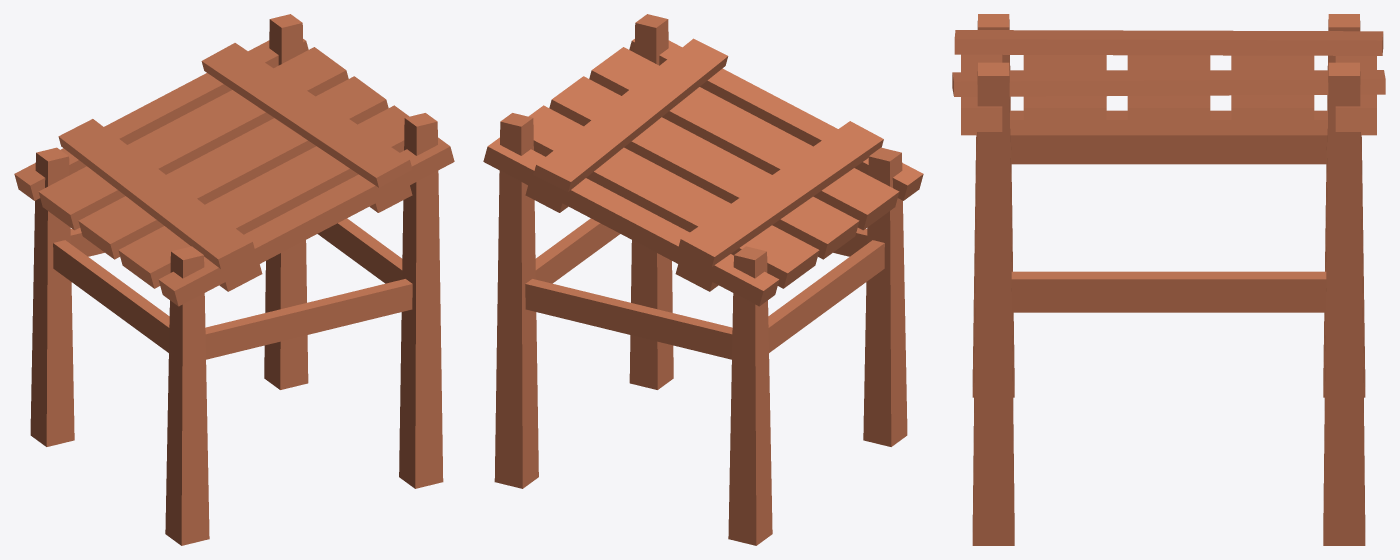
Rendered from structure-roof.obj.
3 renders of one model, left to right at view 1: azimuth 30°, elevation 25°; view 2: azimuth 150°, elevation 25°; view 3: azimuth 270°, elevation 25°, orthographic. The views are drawn at different scales.
Bounding box in the file's own units: 0.5355 × 0.6572 × 0.5519.
